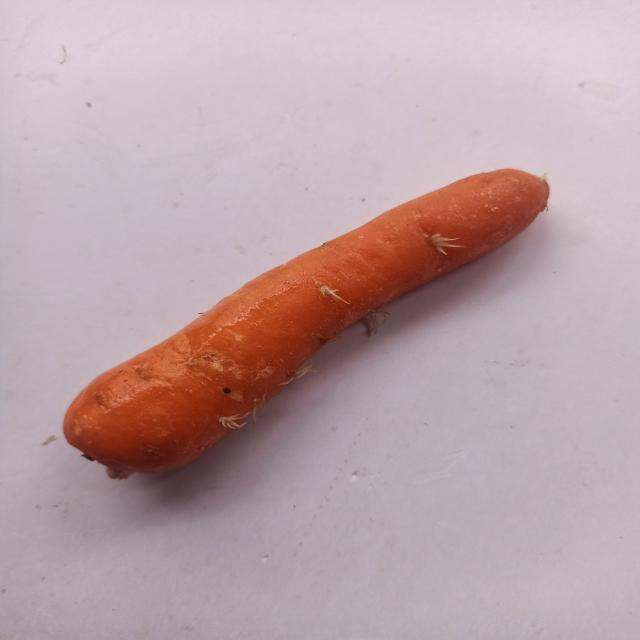Carrot: (54, 140, 579, 497)
